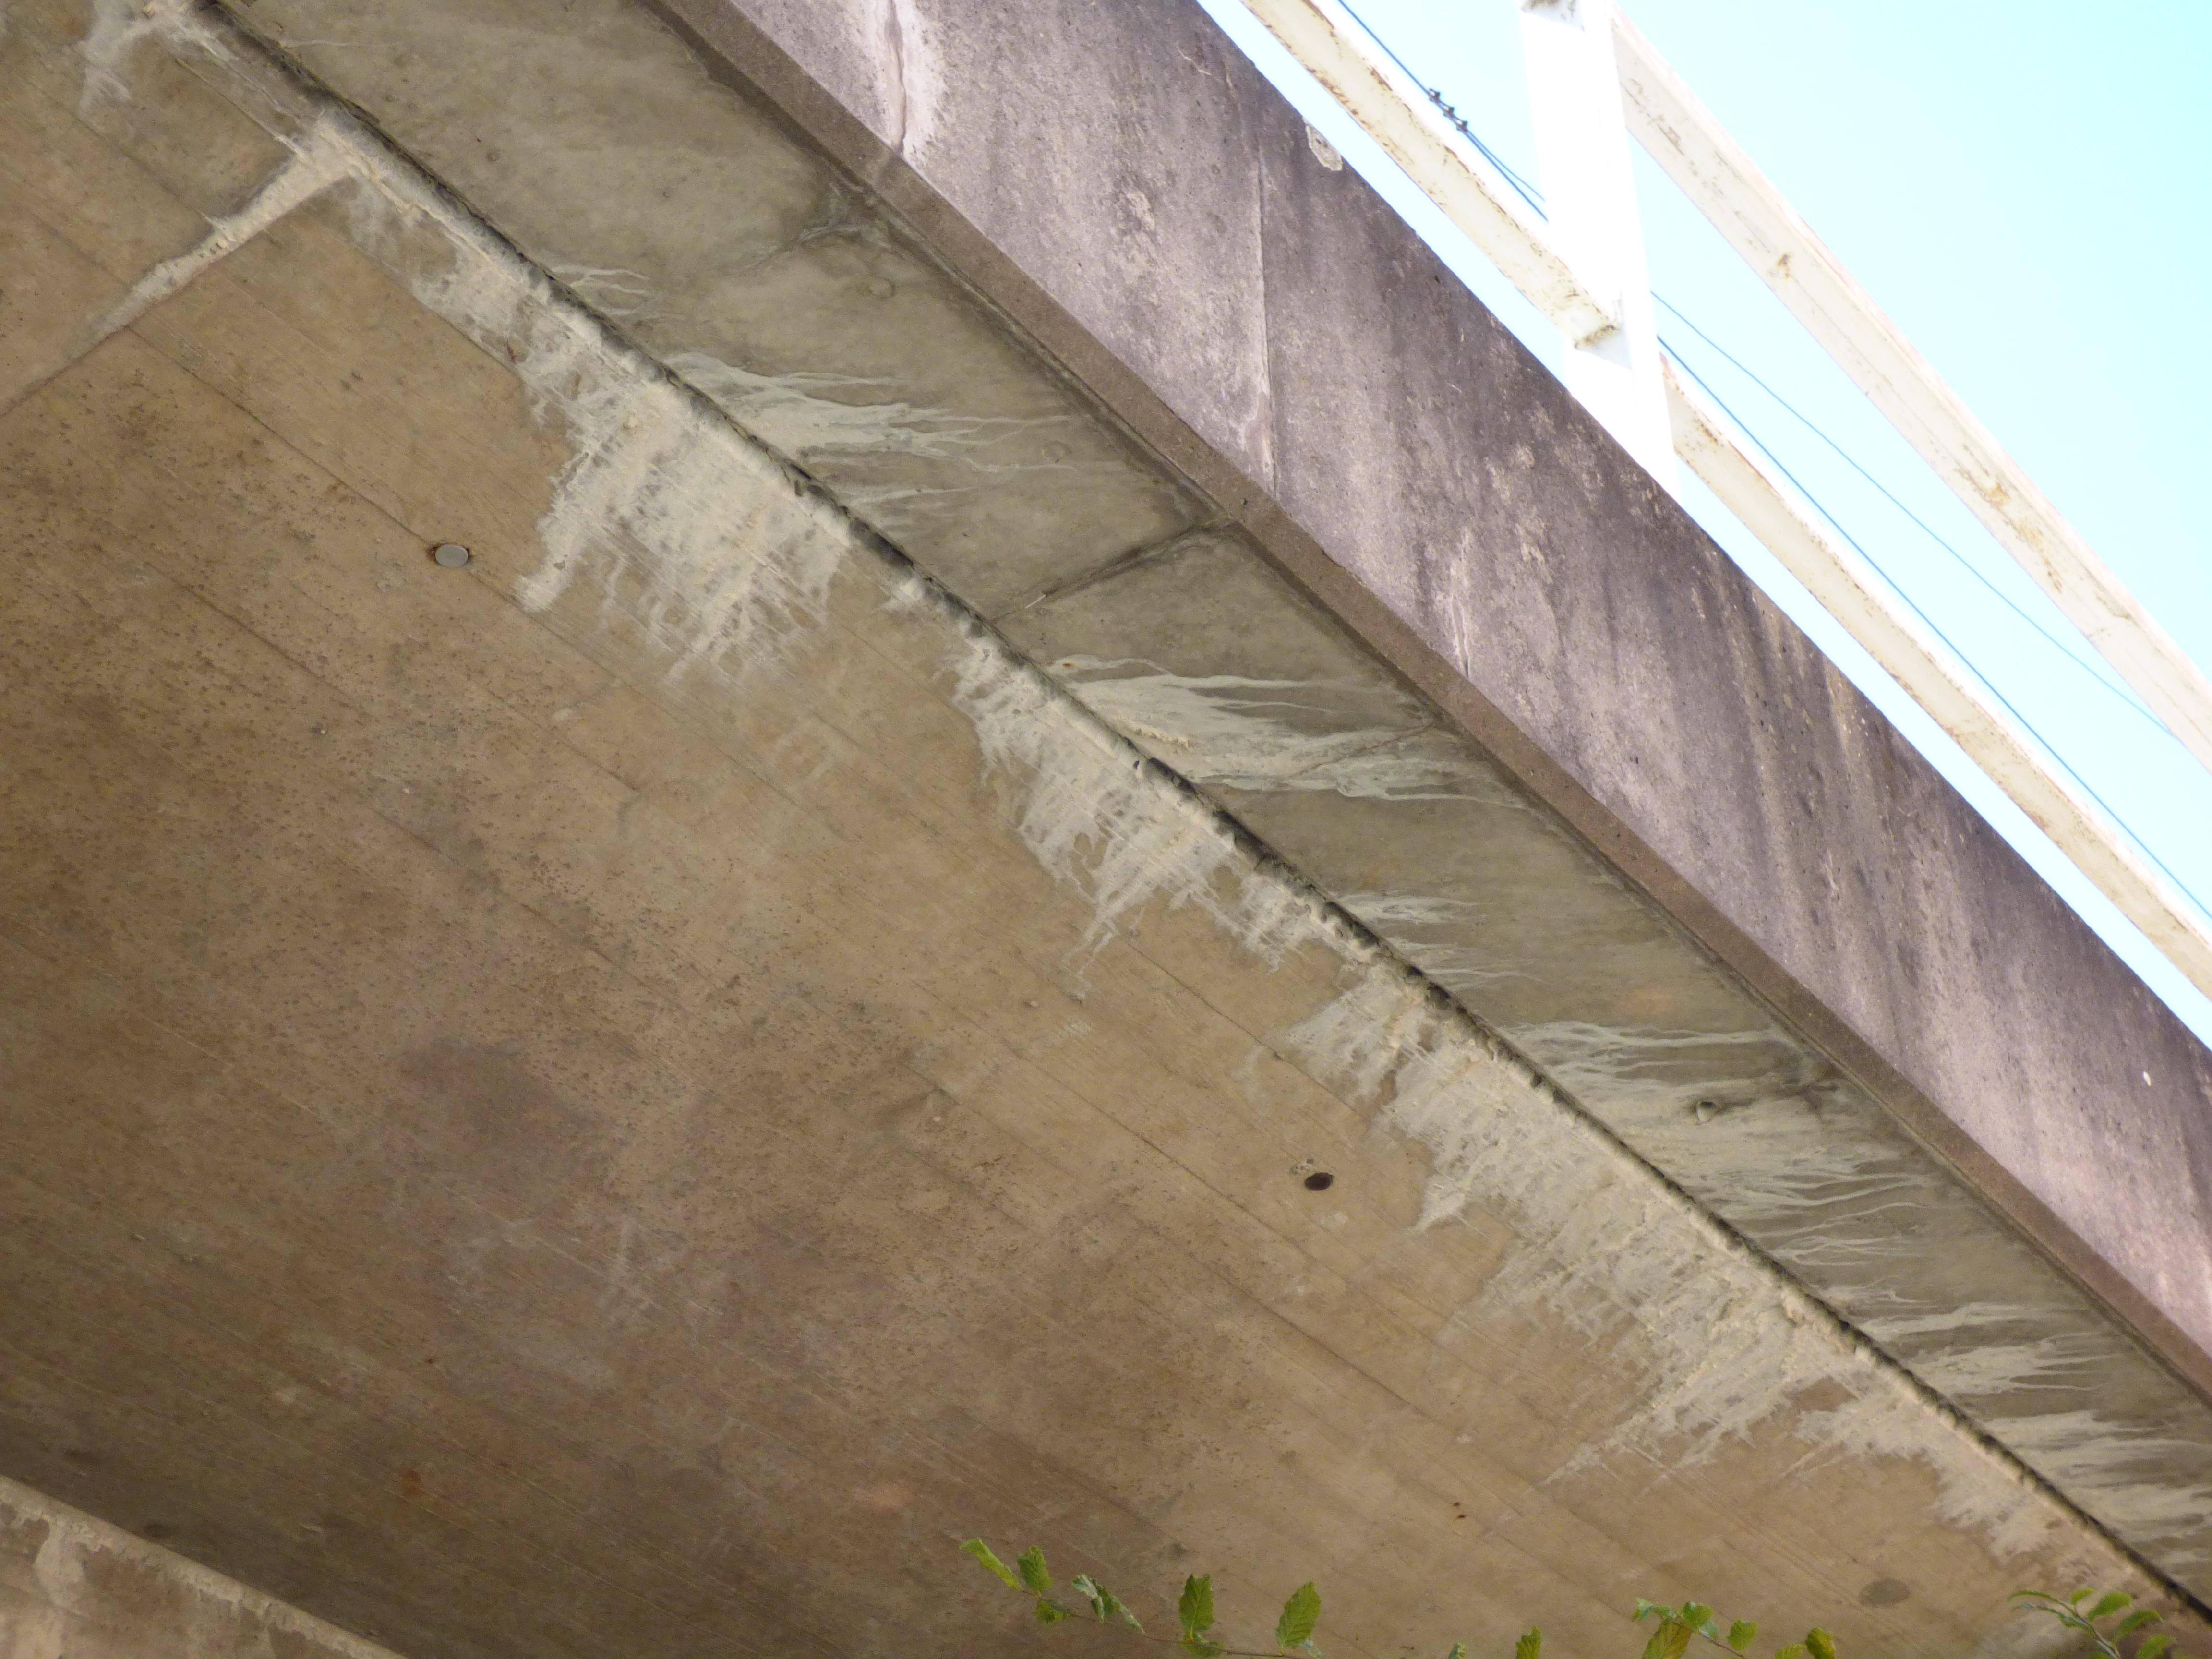corrosion: (1237, 993, 1954, 1514), (411, 202, 1083, 695), (885, 568, 1548, 993), (1956, 1297, 2212, 1659), (84, 98, 444, 350), (63, 0, 240, 122)
